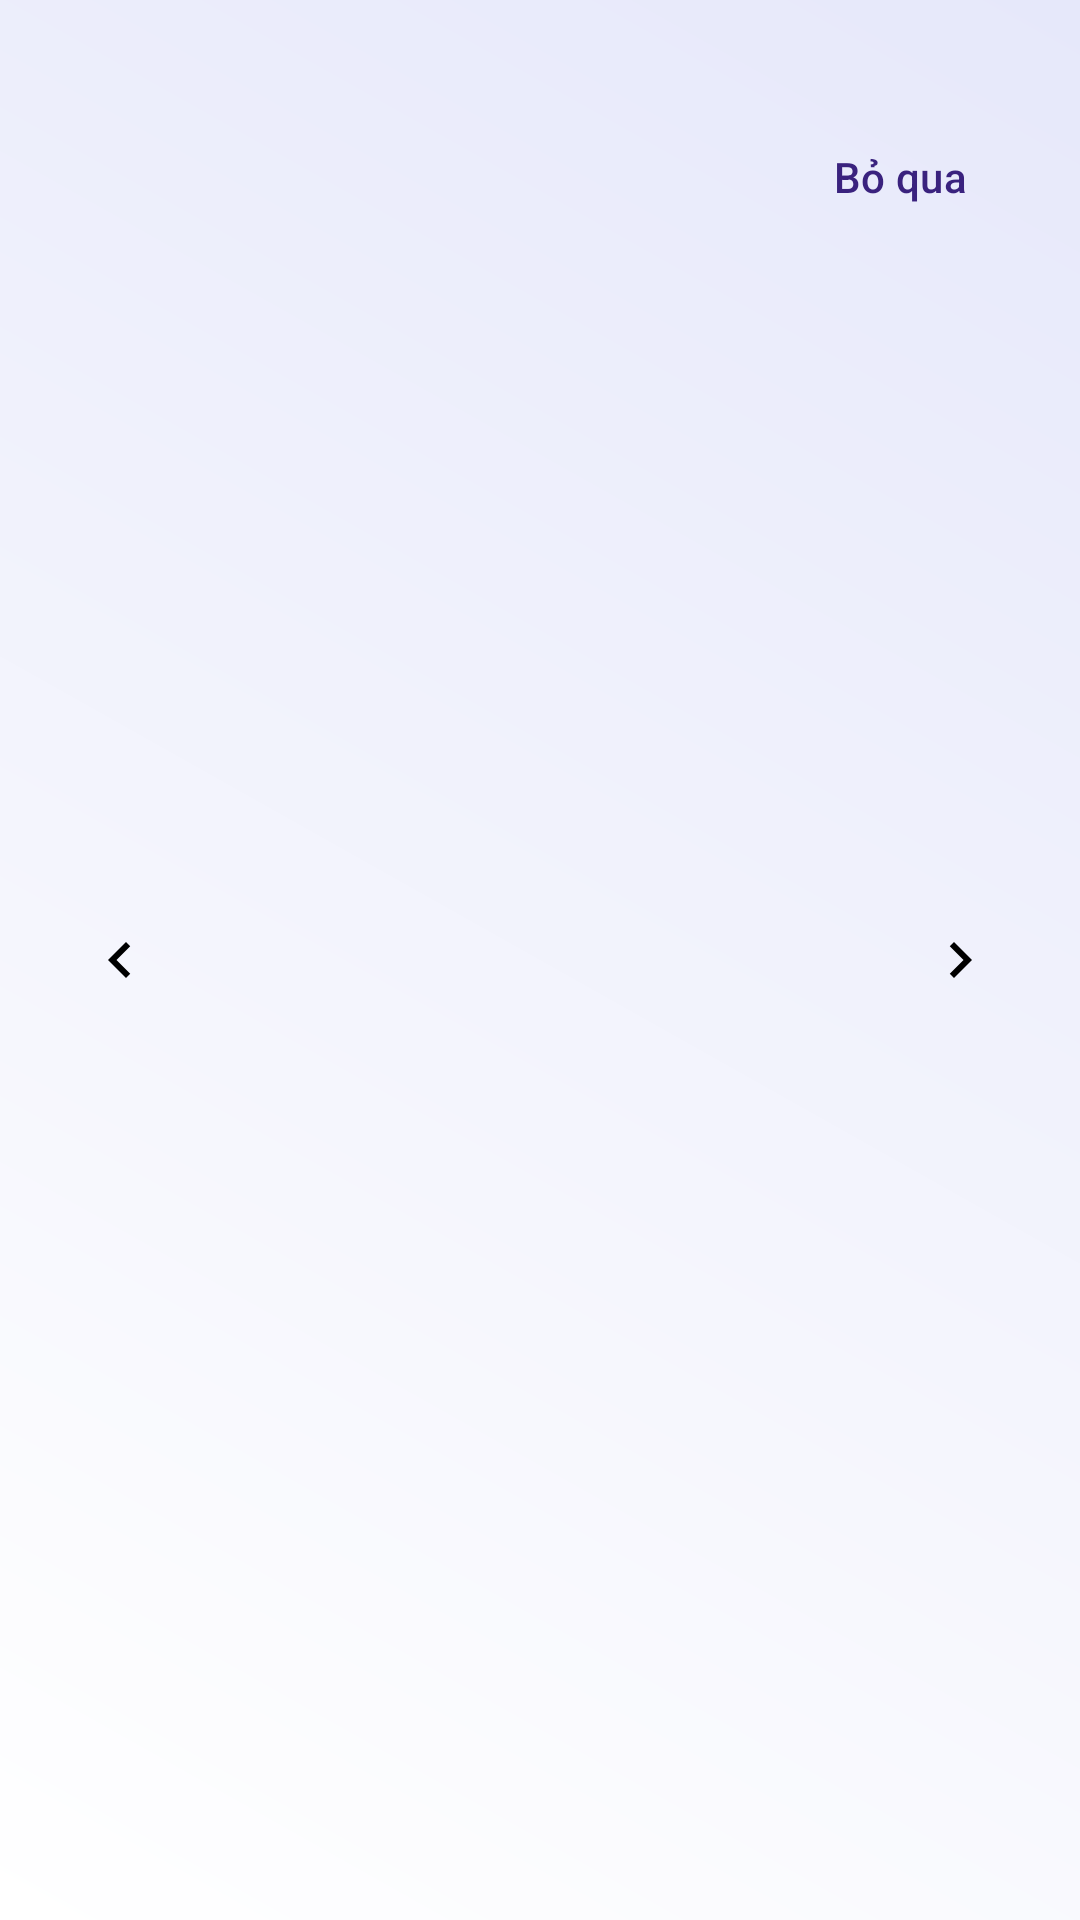

Where icons sit on this 1080x1920 app screen, as (x1, y1, x2, y2):
Next: (950, 942, 972, 978)
Previous: (108, 942, 130, 978)
